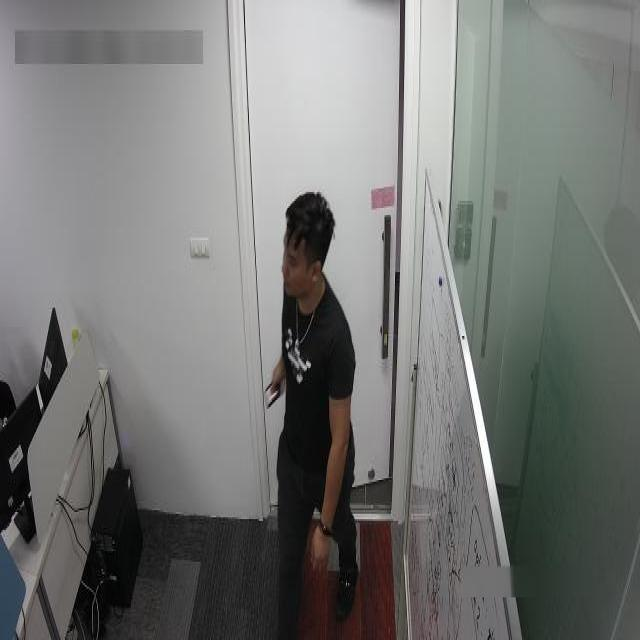bare_hand: (305, 523, 339, 585), (265, 350, 289, 396)
